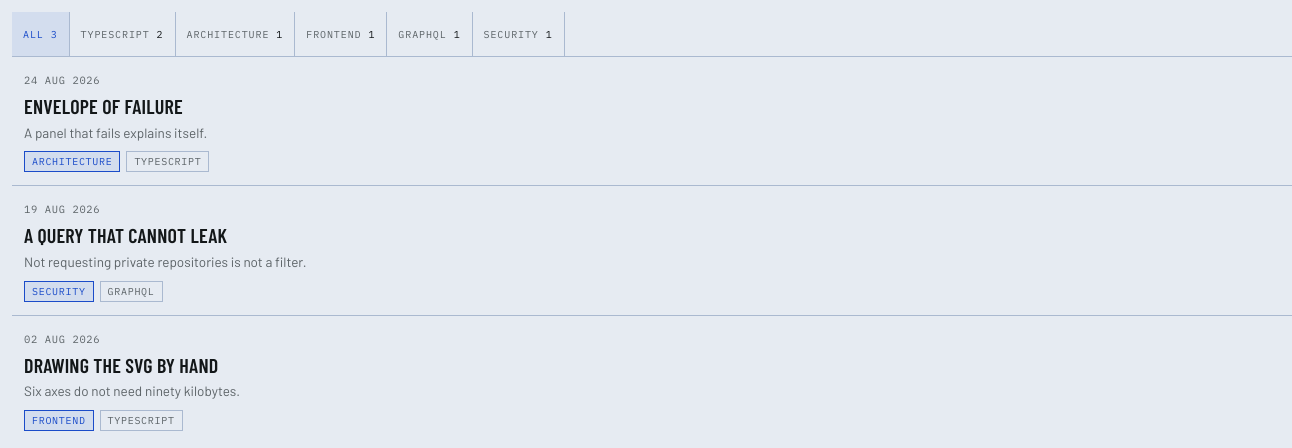
PostBrowser › returns to every post on All
Click the button "Security 1" at (519, 34), box left=473, top=12, right=565, bottom=56
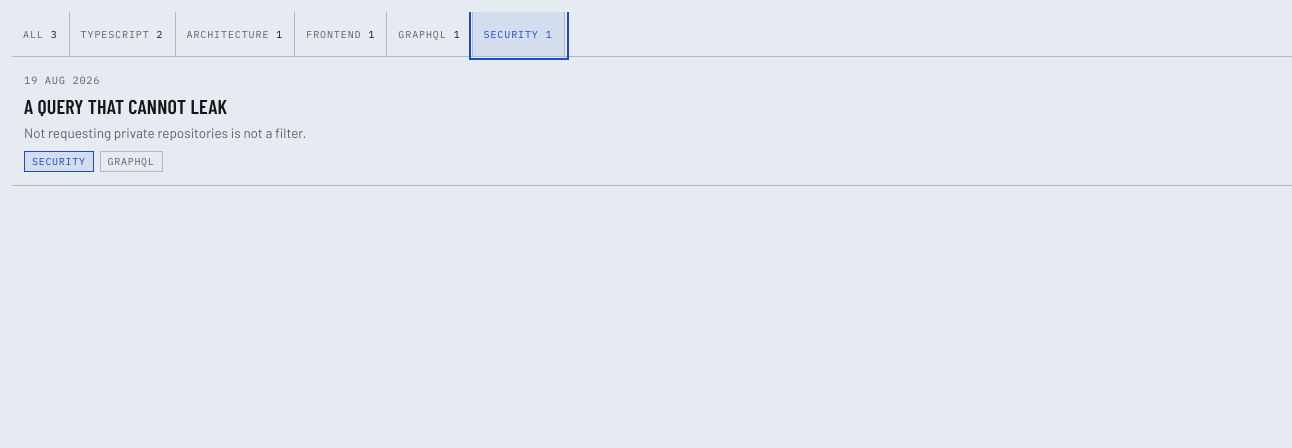
Click the button "All 3" at (41, 34), box left=12, top=12, right=70, bottom=56
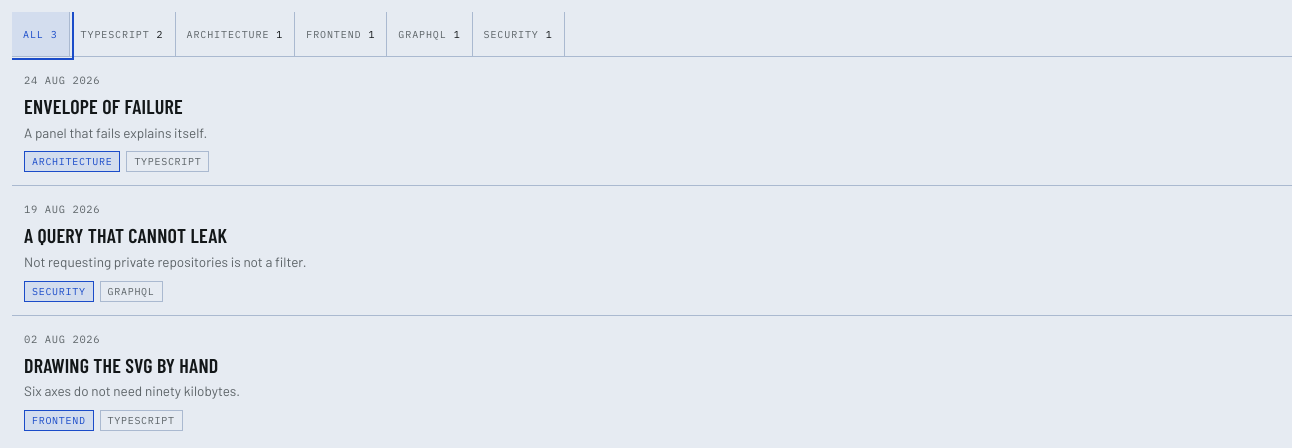
Expected: the number of links is 3, left=24, top=94, right=183, bottom=118; left=24, top=223, right=227, bottom=247; left=24, top=353, right=218, bottom=377
